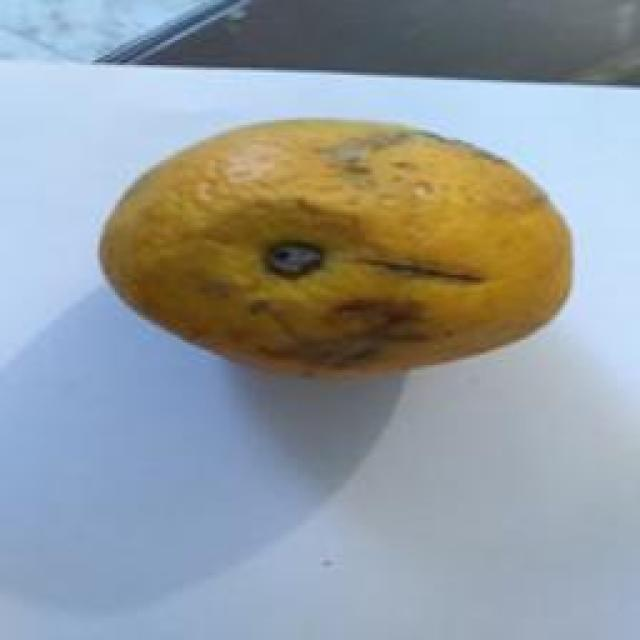Rotten_Orange: (94, 85, 587, 398)
